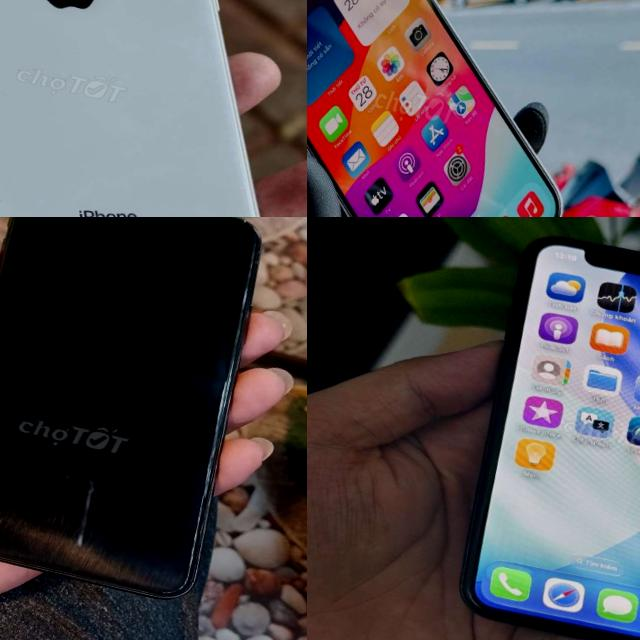gen_11: (0, 217, 286, 611), (427, 217, 640, 640)
gen_12_13: (307, 0, 620, 217)
gen_7_8: (0, 0, 307, 217)
